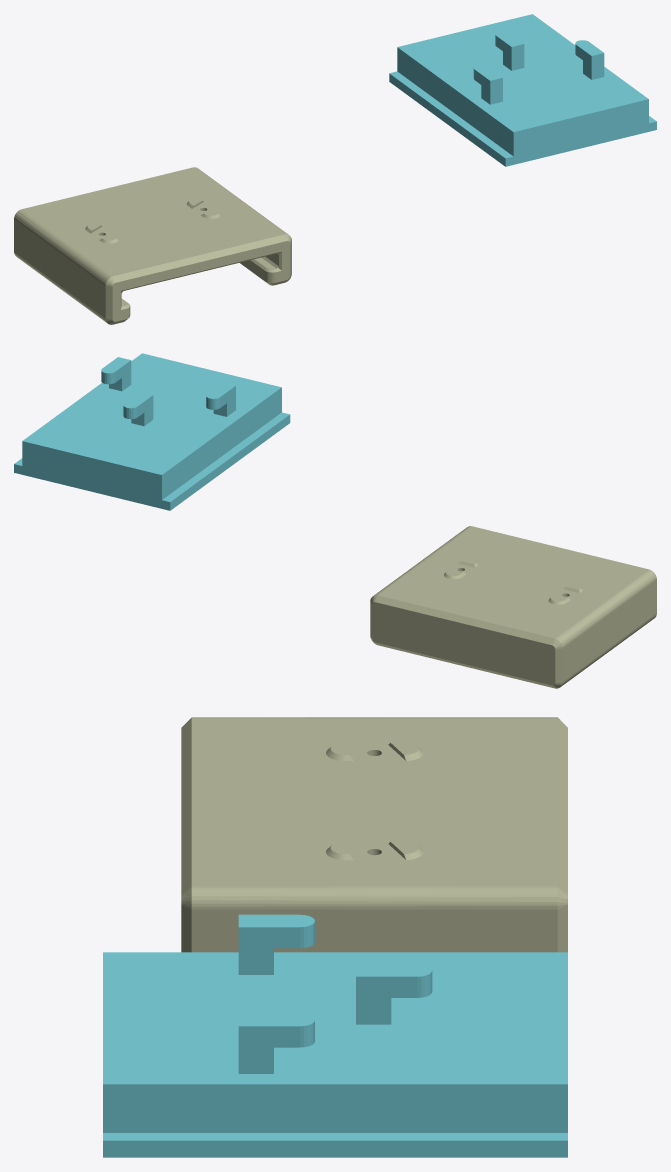
File: Ryobi 40V Battery Skadis Mount.obj
3 renders of one model, top to bottom at view 1: azimuth 30°, elevation 25°; view 2: azimuth 150°, elevation 25°; view 3: azimuth 270°, elevation 25°, orthographic. The views are drawn at different scales.
Visible parts, largest first — view 1: obj_1, obj_0; view 2: obj_1, obj_0; view 3: obj_0, obj_1.
Part boxes in pixels (box(x1,y1,x2,y2)): obj_1: box(14, 167, 291, 324); obj_0: box(389, 14, 656, 166); obj_1: box(370, 526, 656, 688); obj_0: box(14, 353, 290, 510); obj_0: box(103, 914, 567, 1157); obj_1: box(181, 717, 567, 952).
Size of the model in its own units: 209 by 52.84 by 79.37.
